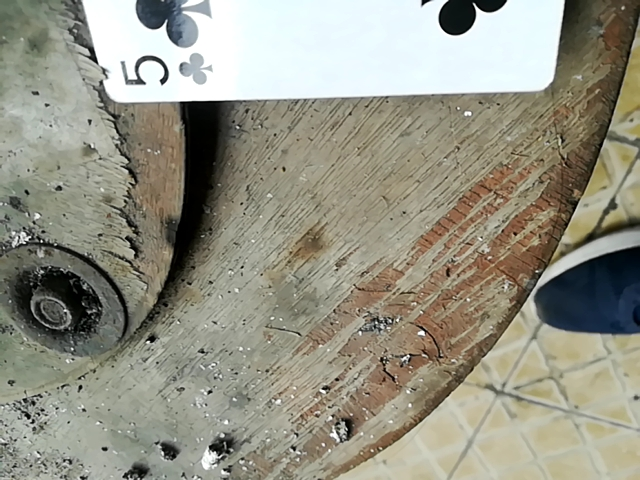mh 5: (44, 0, 564, 93)
